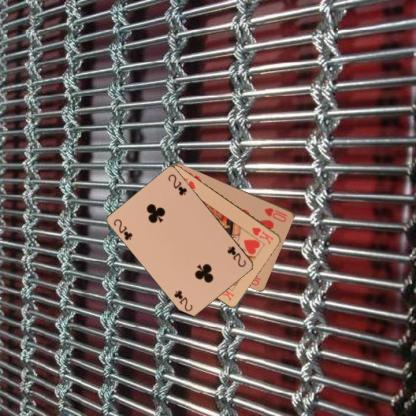10h: (262, 205, 290, 223)
2c: (111, 217, 134, 242), (224, 244, 247, 268)
Kh: (249, 224, 275, 245)
